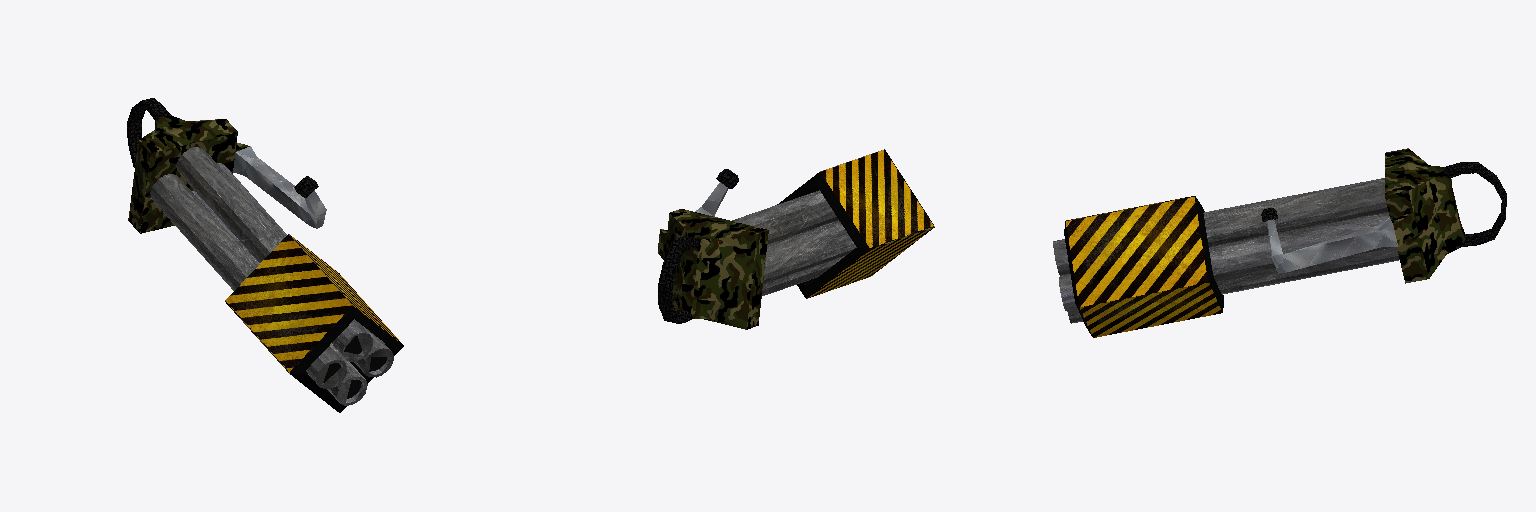
3 renders of one model, left to right at view 1: azimuth 30°, elevation 25°; view 2: azimuth 150°, elevation 25°; view 3: azimuth 270°, elevation 25°, orthographic.
Parts seen in each view (by area): view 1: Cylinder.001, Cylinder.000_Cylinder.004, Cube; view 2: Cube, Cylinder.000_Cylinder.004, Cylinder.001; view 3: Cylinder.000_Cylinder.004, Cylinder.001, Cube.
Part boxes in pixels (bbox=[...]): Cylinder.001: bbox=[146, 147, 393, 405]; Cylinder.000_Cylinder.004: bbox=[225, 234, 403, 412]; Cube: bbox=[127, 98, 326, 233]; Cube: bbox=[658, 169, 768, 329]; Cylinder.000_Cylinder.004: bbox=[777, 149, 934, 298]; Cylinder.001: bbox=[732, 190, 856, 295]; Cylinder.000_Cylinder.004: bbox=[1064, 196, 1223, 337]; Cylinder.001: bbox=[1053, 178, 1399, 323]; Cube: bbox=[1261, 148, 1506, 283].
Bounding box in the file's own units: 1.75 × 2.17 × 5.14.
3 materials, 1 textured.